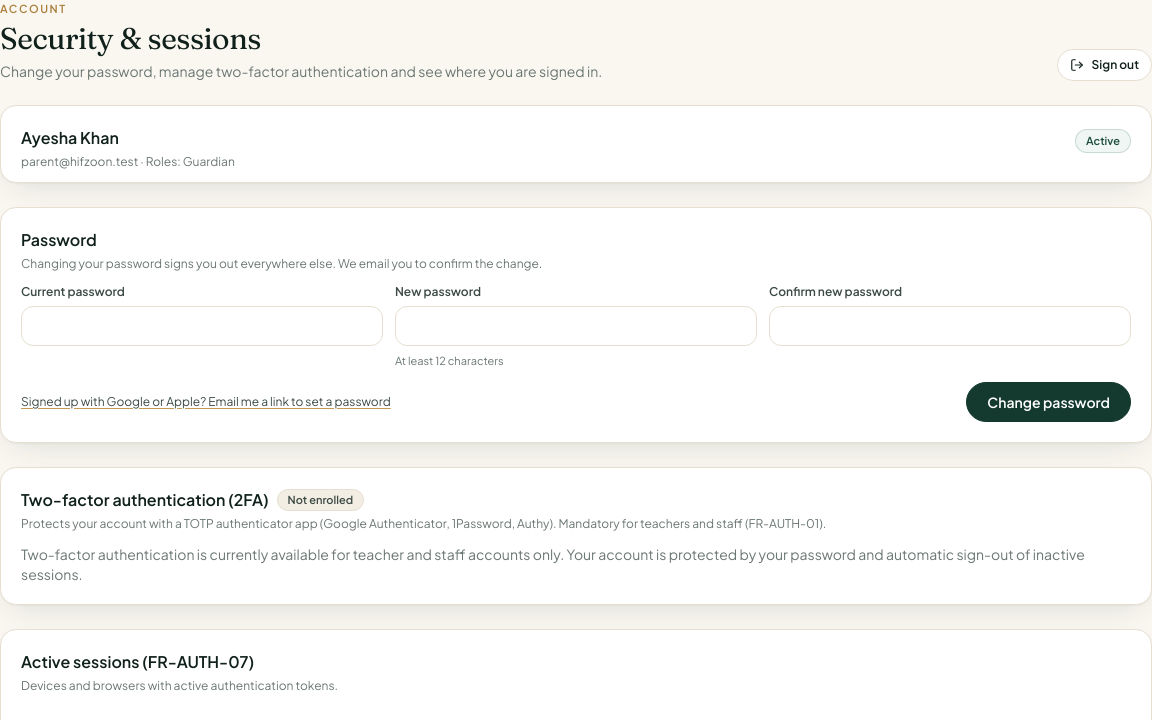
Test: Account security → Password › still emails a link for accounts that sign in with a provider
Click the button "Email me a link to set a password" at (206, 402), box [21, 394, 391, 410]
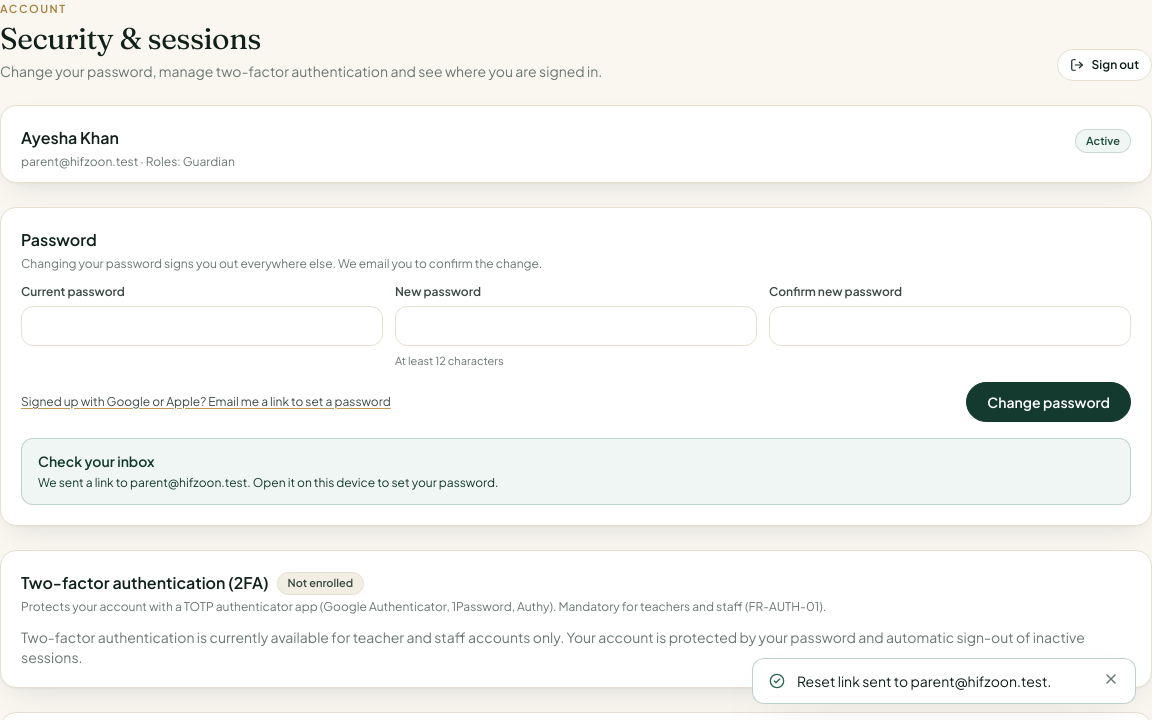
Expected: the text "We sent a link to parent@hifzoon.test" is shown, [38, 475, 498, 490]
